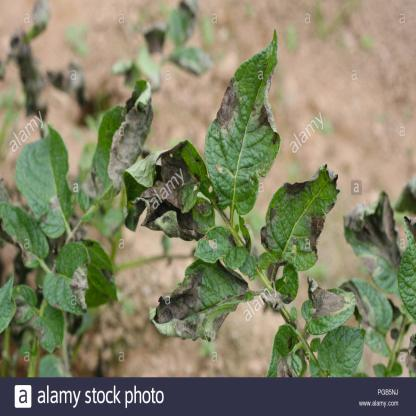potato leaf late blight: (203, 28, 281, 216), (149, 247, 247, 345), (125, 140, 218, 240), (261, 168, 338, 287), (340, 190, 412, 292), (302, 281, 357, 342), (267, 320, 308, 377)
